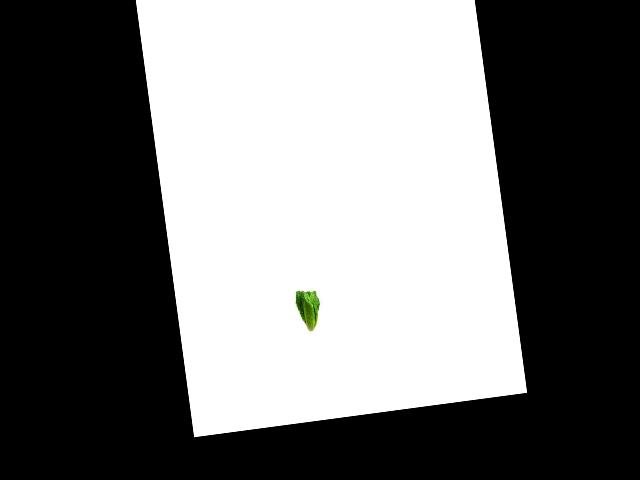lettuce: (290, 286, 327, 334)
